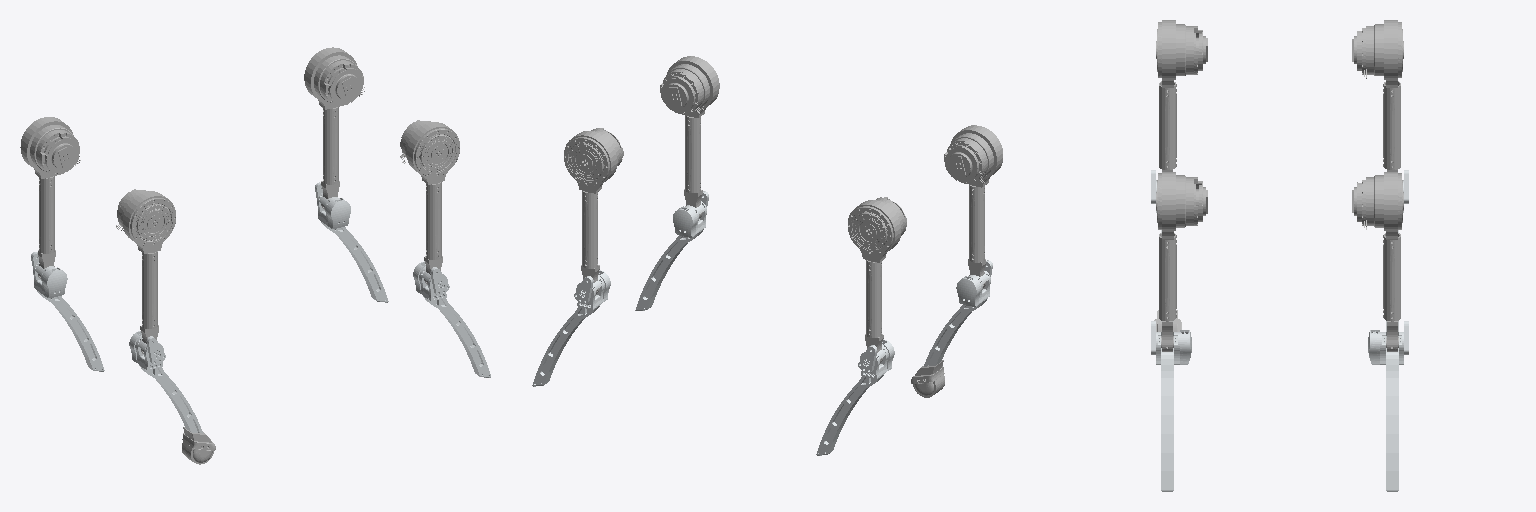
URDF robot description (PONGBOT_Q_V6_rviz):
<?xml version="1.0" encoding="utf-8"?>
<!-- This URDF was automatically created by SolidWorks to URDF Exporter! Originally created by [author] ([email redacted])
Commit Version: 1.5.1-0-g916b5db  Build Version: 1.5.7152.31018
For more information, please see http://wiki.ros.org/sw_urdf_exporter -->
<robot
    name="PONGBOT_Q_V6_rviz">
    <link
        name="BODY">
        <inertial>
            <origin
                xyz="-0.0221 0.00034 0.05293"
                rpy="0 0 0" />
            <mass
                value="24.701" />
            <inertia
                ixx="0.34089"
                ixy="-0.00272"
                ixz="-0.08697"
                iyy="1.8849"
                iyz="0.00032"
                izz="1.9898" />
        </inertial>
        <visual>
            <origin
                xyz="0 0 0"
                rpy="0 0 0" />
            <geometry>
                <mesh
                    filename="package://PONGBOT_Q_V6_rviz/meshes/BODY.STL" />
            </geometry>
            <material
                name="">
                <color
                    rgba="0.75294 0.75294 0.75294 1" />
            </material>
        </visual>
        <collision>
            <origin
                xyz="0 0 0"
                rpy="0 0 0" />
            <geometry>
                <mesh
                    filename="package://PONGBOT_Q_V6_rviz/meshes/BODY.STL" />
            </geometry>
        </collision>
    </link>
    <link
        name="RL_HIP">
        <inertial>
            <origin
                xyz="-0.00113 -0.00546 -0.00059"
                rpy="0 0 0" />
            <mass
                value="1.5346" />
            <inertia
                ixx="0.00131"
                ixy="0"
                ixz="1E-05"
                iyy="0.00176"
                iyz="1E-05"
                izz="0.00141" />
        </inertial>
        <visual>
            <origin
                xyz="0 0 0"
                rpy="0 0 0" />
            <geometry>
                <mesh
                    filename="package://PONGBOT_Q_V6_rviz/meshes/RL_HIP.STL" />
            </geometry>
            <material
                name="">
                <color
                    rgba="0.75294 0.75294 0.75294 1" />
            </material>
        </visual>
        <collision>
            <origin
                xyz="0 0 0"
                rpy="0 0 0" />
            <geometry>
                <mesh
                    filename="package://PONGBOT_Q_V6_rviz/meshes/RL_HIP.STL" />
            </geometry>
        </collision>
    </link>
    <joint
        name="1_RL_HR_JOINT"
        type="continuous">
        <origin
            xyz="-0.35 0.11502 0"
            rpy="0 0 0" />
        <parent
            link="BODY" />
        <child
            link="RL_HIP" />
        <axis
            xyz="1 0 0" />
    </joint>
    <link
        name="RL_THIGH">
        <inertial>
            <origin
                xyz="0.00018 -0.01146 -0.02836"
                rpy="0 0 0" />
            <mass
                value="3.32" />
            <inertia
                ixx="0.02493"
                ixy="-3E-05"
                ixz="2E-05"
                iyy="0.02533"
                iyz="-0.001"
                izz="0.00394" />
        </inertial>
        <visual>
            <origin
                xyz="0 0 0"
                rpy="0 0 0" />
            <geometry>
                <mesh
                    filename="package://PONGBOT_Q_V6_rviz/meshes/RL_THIGH.STL" />
            </geometry>
            <material
                name="">
                <color
                    rgba="0.75294 0.75294 0.75294 1" />
            </material>
        </visual>
        <collision>
            <origin
                xyz="0 0 0"
                rpy="0 0 0" />
            <geometry>
                <mesh
                    filename="package://PONGBOT_Q_V6_rviz/meshes/RL_THIGH.STL" />
            </geometry>
        </collision>
    </link>
    <joint
        name="RL_HP_JOINT"
        type="continuous">
        <origin
            xyz="0 0.1049 0"
            rpy="0 0 0" />
        <parent
            link="RL_HIP" />
        <child
            link="RL_THIGH" />
        <axis
            xyz="0 1 0" />
    </joint>
    <link
        name="RL_CALF">
        <inertial>
            <origin
                xyz="0.03375 0.00334 -0.0746"
                rpy="0 0 0" />
            <mass
                value="0.57335" />
            <inertia
                ixx="0.00434"
                ixy="-7E-05"
                ixz="-0.0021615"
                iyy="0.00538"
                iyz="0.00018"
                izz="0.00139" />
        </inertial>
        <visual>
            <origin
                xyz="0 0 0"
                rpy="0 0 0" />
            <geometry>
                <mesh
                    filename="package://PONGBOT_Q_V6_rviz/meshes/RL_CALF.STL" />
            </geometry>
            <material
                name="">
                <color
                    rgba="0.89804 0.91765 0.92941 1" />
            </material>
        </visual>
        <collision>
            <origin
                xyz="0 0 0"
                rpy="0 0 0" />
            <geometry>
                <mesh
                    filename="package://PONGBOT_Q_V6_rviz/meshes/RL_CALF.STL" />
            </geometry>
        </collision>
    </link>
    <joint
        name="RL_KN_JOINT"
        type="continuous">
        <origin
            xyz="0 0 -0.305"
            rpy="0 0 0" />
        <parent
            link="RL_THIGH" />
        <child
            link="RL_CALF" />
        <axis
            xyz="0 1 0" />
    </joint>
    <link
      name="RL_TIP">
      <inertial>
        <origin
          xyz="-0.00076 0 0.00289"
          rpy="0 0 0" />
        <mass
          value="0.1646" />
        <inertia
          ixx="9E-05"
          ixy="0"
          ixz="-1E-05"
          iyy="9E-05"
          iyz="0"
          izz="8E-05" />
      </inertial>
      <visual>
        <origin
          xyz="0 0 0"
          rpy="0 0 0" />
        <geometry>
          <mesh
            filename="package://PONGBOT_Q_V6_rviz/meshes/RL_TIP.STL" />
        </geometry>
        <material
          name="">
          <color
            rgba="0.75294 0.75294 0.75294 1" />
        </material>
      </visual>
      <collision>
        <origin
          xyz="0 0 0"
          rpy="0 0 0" />
        <geometry>
          <mesh
            filename="package://PONGBOT_Q_V6_rviz/meshes/RL_TIP.STL" />
        </geometry>
      </collision>
    </link>
    <joint
      name="RL_TIP_JOINT"
      type="fixed">
      <origin
        xyz="0.11836 0 -0.26273"
        rpy="0 0 0" />
      <parent
        link="RL_CALF" />
      <child
        link="RL_TIP" />
      <axis
        xyz="0 0 0" />
    </joint>
    <link
        name="RR_HIP">
        <inertial>
            <origin
                xyz="-0.00113 0.00546 0.00059"
                rpy="0 0 0" />
            <mass
                value="1.5346" />
            <inertia
                ixx="0.00131"
                ixy="0"
                ixz="-1E-05"
                iyy="0.00176"
                iyz="1E-05"
                izz="0.00141" />
        </inertial>
        <visual>
            <origin
                xyz="0 0 0"
                rpy="0 0 0" />
            <geometry>
                <mesh
                    filename="package://PONGBOT_Q_V6_rviz/meshes/RR_HIP.STL" />
            </geometry>
            <material
                name="">
                <color
                    rgba="0.75294 0.75294 0.75294 1" />
            </material>
        </visual>
        <collision>
            <origin
                xyz="0 0 0"
                rpy="0 0 0" />
            <geometry>
                <mesh
                    filename="package://PONGBOT_Q_V6_rviz/meshes/RR_HIP.STL" />
            </geometry>
        </collision>
    </link>
    <joint
        name="2_RR_HR_JOINT"
        type="continuous">
        <origin
            xyz="-0.35 -0.11502 0"
            rpy="0 0 0" />
        <parent
            link="BODY" />
        <child
            link="RR_HIP" />
        <axis
            xyz="1 0 0" />
    </joint>
    <link
        name="RR_THIGH">
        <inertial>
            <origin
                xyz="-0.00018 0.01146 -0.02836"
                rpy="0 0 0" />
            <mass
                value="3.32" />
            <inertia
                ixx="0.02493"
                ixy="-3E-05"
                ixz="-2E-05"
                iyy="0.028"
                iyz="0.001"
                izz="0.00394" />
        </inertial>
        <visual>
            <origin
                xyz="0 0 0"
                rpy="0 0 0" />
            <geometry>
                <mesh
                    filename="package://PONGBOT_Q_V6_rviz/meshes/RR_THIGH.STL" />
            </geometry>
            <material
                name="">
                <color
                    rgba="0.75294 0.75294 0.75294 1" />
            </material>
        </visual>
        <collision>
            <origin
                xyz="0 0 0"
                rpy="0 0 0" />
            <geometry>
                <mesh
                    filename="package://PONGBOT_Q_V6_rviz/meshes/RR_THIGH.STL" />
            </geometry>
        </collision>
    </link>
    <joint
        name="RR_HP_JOINT"
        type="continuous">
        <origin
            xyz="0 -0.1049 0"
            rpy="0 0 0" />
        <parent
            link="RR_HIP" />
        <child
            link="RR_THIGH" />
        <axis
            xyz="0 1 0" />
    </joint>
    <link
        name="RR_CALF">
        <inertial>
            <origin
                xyz="0.03376 -0.00334 -0.0746"
                rpy="0 0 0" />
            <mass
                value="0.57335" />
            <inertia
                ixx="0.00434"
                ixy="7E-05"
                ixz="-0.00216"
                iyy="0.00538"
                iyz="-0.00018"
                izz="0.00139" />
        </inertial>
        <visual>
            <origin
                xyz="0 0 0"
                rpy="0 0 0" />
            <geometry>
                <mesh
                    filename="package://PONGBOT_Q_V6_rviz/meshes/RR_CALF.STL" />
            </geometry>
            <material
                name="">
                <color
                    rgba="0.89804 0.91765 0.92941 1" />
            </material>
        </visual>
        <collision>
            <origin
                xyz="0 0 0"
                rpy="0 0 0" />
            <geometry>
                <mesh
                    filename="package://PONGBOT_Q_V6_rviz/meshes/RR_CALF.STL" />
            </geometry>
        </collision>
    </link>
    <joint
        name="RR_KN_JOINT"
        type="continuous">
        <origin
            xyz="0 0 -0.305"
            rpy="0 0 0" />
        <parent
            link="RR_THIGH" />
        <child
            link="RR_CALF" />
        <axis
            xyz="0 1 0" />
    </joint>
    <link
      name="RR_TIP">
      <inertial>
        <origin
          xyz="-0.00076 0 0.00289"
          rpy="0 0 0" />
        <mass
          value="0.1646" />
        <inertia
          ixx="9E-05"
          ixy="0"
          ixz="-1E-05"
          iyy="9E-05"
          iyz="0"
          izz="8E-05" />
      </inertial>
      <visual>
        <origin
          xyz="0 0 0"
          rpy="0 0 0" />
        <geometry>
          <mesh
            filename="package://PONGBOT_Q_V6_rviz/meshes/RR_TIP.STL" />
        </geometry>
        <material
          name="">
          <color
            rgba="0.75294 0.75294 0.75294 1" />
        </material>
      </visual>
      <collision>
        <origin
          xyz="0 0 0"
          rpy="0 0 0" />
        <geometry>
          <mesh
            filename="package://PONGBOT_Q_V6_rviz/meshes/RR_TIP.STL" />
        </geometry>
      </collision>
    </link>
    <joint
      name="RR_TIP_JOINT"
      type="fixed">
      <origin
        xyz="0.11836 0 -0.26273"
        rpy="0 0 0" />
      <parent
        link="RR_CALF" />
      <child
        link="RR_TIP" />
      <axis
        xyz="0 0 0" />
    </joint>
    <link
        name="FL_HIP">
        <inertial>
            <origin
                xyz="0.00113 -0.00546 0.00059"
                rpy="0 0 0" />
            <mass
                value="1.5346" />
            <inertia
                ixx="0.00131"
                ixy="0"
                ixz="1E-05"
                iyy="0.00176"
                iyz="-1E-05"
                izz="0.00141" />
        </inertial>
        <visual>
            <origin
                xyz="0 0 0"
                rpy="0 0 0" />
            <geometry>
                <mesh
                    filename="package://PONGBOT_Q_V6_rviz/meshes/FL_HIP.STL" />
            </geometry>
            <material
                name="">
                <color
                    rgba="0.75294 0.75294 0.75294 1" />
            </material>
        </visual>
        <collision>
            <origin
                xyz="0 0 0"
                rpy="0 0 0" />
            <geometry>
                <mesh
                    filename="package://PONGBOT_Q_V6_rviz/meshes/FL_HIP.STL" />
            </geometry>
        </collision>
    </link>
    <joint
        name="3_FL_HR_JOINT"
        type="continuous">
        <origin
            xyz="0.35 0.11502 0"
            rpy="0 0 0" />
        <parent
            link="BODY" />
        <child
            link="FL_HIP" />
        <axis
            xyz="1 0 0" />
    </joint>
    <link
        name="FL_THIGH">
        <inertial>
            <origin
                xyz="0.00018 -0.01146 -0.02836"
                rpy="0 0 0" />
            <mass
                value="3.32" />
            <inertia
                ixx="0.02493"
                ixy="-3E-05"
                ixz="2E-05"
                iyy="0.02533"
                iyz="-0.001"
                izz="0.00394" />
        </inertial>
        <visual>
            <origin
                xyz="0 0 0"
                rpy="0 0 0" />
            <geometry>
                <mesh
                    filename="package://PONGBOT_Q_V6_rviz/meshes/FL_THIGH.STL" />
            </geometry>
            <material
                name="">
                <color
                    rgba="0.75294 0.75294 0.75294 1" />
            </material>
        </visual>
        <collision>
            <origin
                xyz="0 0 0"
                rpy="0 0 0" />
            <geometry>
                <mesh
                    filename="package://PONGBOT_Q_V6_rviz/meshes/FL_THIGH.STL" />
            </geometry>
        </collision>
    </link>
    <joint
        name="FL_HP_JOINT"
        type="continuous">
        <origin
            xyz="0 0.1049 0"
            rpy="0 0 0" />
        <parent
            link="FL_HIP" />
        <child
            link="FL_THIGH" />
        <axis
            xyz="0 1 0" />
    </joint>
    <link
        name="FL_CALF">
        <inertial>
            <origin
                xyz="0.03375 0.00334 -0.0746"
                rpy="0 0 0" />
            <mass
                value="0.57335" />
            <inertia
                ixx="0.00434"
                ixy="-7E-05"
                ixz="-0.00216"
                iyy="0.00538"
                iyz="0.00018"
                izz="0.00139" />
        </inertial>
        <visual>
            <origin
                xyz="0 0 0"
                rpy="0 0 0" />
            <geometry>
                <mesh
                    filename="package://PONGBOT_Q_V6_rviz/meshes/FL_CALF.STL" />
            </geometry>
            <material
                name="">
                <color
                    rgba="0.89804 0.91765 0.92941 1" />
            </material>
        </visual>
        <collision>
            <origin
                xyz="0 0 0"
                rpy="0 0 0" />
            <geometry>
                <mesh
                    filename="package://PONGBOT_Q_V6_rviz/meshes/FL_CALF.STL" />
            </geometry>
        </collision>
    </link>
    <joint
        name="FL_KN_JOINT"
        type="continuous">
        <origin
            xyz="0 0 -0.305"
            rpy="0 0 0" />
        <parent
            link="FL_THIGH" />
        <child
            link="FL_CALF" />
        <axis
            xyz="0 1 0" />
    </joint>
    <link
      name="FL_TIP">
      <inertial>
        <origin
          xyz="-0.00076 0 0.00289"
          rpy="0 0 0" />
        <mass
          value="0.1646" />
        <inertia
          ixx="9E-05"
          ixy="0"
          ixz="-1E-05"
          iyy="9E-05"
          iyz="0"
          izz="8E-05" />
      </inertial>
      <visual>
        <origin
          xyz="0 0 0"
          rpy="0 0 0" />
        <geometry>
          <mesh
            filename="package://PONGBOT_Q_V6_rviz/meshes/FL_TIP.STL" />
        </geometry>
        <material
          name="">
          <color
            rgba="0.75294 0.75294 0.75294 1" />
        </material>
      </visual>
      <collision>
        <origin
          xyz="0 0 0"
          rpy="0 0 0" />
        <geometry>
          <mesh
            filename="package://PONGBOT_Q_V6_rviz/meshes/FL_TIP.STL" />
        </geometry>
      </collision>
    </link>
    <joint
      name="FL_TIP_JOINT"
      type="fixed">
      <origin
        xyz="0.11836 0 -0.26273"
        rpy="0 0 0" />
      <parent
        link="FL_CALF" />
      <child
        link="FL_TIP" />
      <axis
        xyz="0 0 0" />
    </joint>
    <link
        name="FR_HIP">
        <inertial>
            <origin
                xyz="0.00113 0.00546 -0.00059"
                rpy="0 0 0" />
            <mass
                value="1.5346" />
            <inertia
                ixx="0.00131"
                ixy="0"
                ixz="-1E-05"
                iyy="0.00176"
                iyz="-1E-05"
                izz="0.00141" />
        </inertial>
        <visual>
            <origin
                xyz="0 0 0"
                rpy="0 0 0" />
            <geometry>
                <mesh
                    filename="package://PONGBOT_Q_V6_rviz/meshes/FR_HIP.STL" />
            </geometry>
            <material
                name="">
                <color
                    rgba="0.75294 0.75294 0.75294 1" />
            </material>
        </visual>
        <collision>
            <origin
                xyz="0 0 0"
                rpy="0 0 0" />
            <geometry>
                <mesh
                    filename="package://PONGBOT_Q_V6_rviz/meshes/FR_HIP.STL" />
            </geometry>
        </collision>
    </link>
    <joint
        name="4_FR_HR_JOINT"
        type="continuous">
        <origin
            xyz="0.35 -0.11502 0"
            rpy="0 0 0" />
        <parent
            link="BODY" />
        <child
            link="FR_HIP" />
        <axis
            xyz="1 0 0" />
    </joint>
    <link
        name="FR_THIGH">
        <inertial>
            <origin
                xyz="-0.00018 0.01146 -0.02836"
                rpy="0 0 0" />
            <mass
                value="3.32" />
            <inertia
                ixx="0.02493"
                ixy="-3E-05"
                ixz="-2E-05"
                iyy="0.02533"
                iyz="0.001"
                izz="0.00394" />
        </inertial>
        <visual>
            <origin
                xyz="0 0 0"
                rpy="0 0 0" />
            <geometry>
                <mesh
                    filename="package://PONGBOT_Q_V6_rviz/meshes/FR_THIGH.STL" />
            </geometry>
            <material
                name="">
                <color
                    rgba="0.75294 0.75294 0.75294 1" />
            </material>
        </visual>
        <collision>
            <origin
                xyz="0 0 0"
                rpy="0 0 0" />
            <geometry>
                <mesh
                    filename="package://PONGBOT_Q_V6_rviz/meshes/FR_THIGH.STL" />
            </geometry>
        </collision>
    </link>
    <joint
        name="FR_HP_JOINT"
        type="continuous">
        <origin
            xyz="0 -0.1049 0"
            rpy="0 0 0" />
        <parent
            link="FR_HIP" />
        <child
            link="FR_THIGH" />
        <axis
            xyz="0 1 0" />
    </joint>
    <link
        name="FR_CALF">
        <inertial>
            <origin
                xyz="0.03376 -0.00334 -0.0746"
                rpy="0 0 0" />
            <mass
                value="0.57335" />
            <inertia
                ixx="0.00434"
                ixy="7E-05"
                ixz="-0.00216"
                iyy="0.00538"
                iyz="-0.00018"
                izz="0.00139" />
        </inertial>
        <visual>
            <origin
                xyz="0 0 0"
                rpy="0 0 0" />
            <geometry>
                <mesh
                    filename="package://PONGBOT_Q_V6_rviz/meshes/FR_CALF.STL" />
            </geometry>
            <material
                name="">
                <color
                    rgba="0.89804 0.91765 0.92941 1" />
            </material>
        </visual>
        <collision>
            <origin
                xyz="0 0 0"
                rpy="0 0 0" />
            <geometry>
                <mesh
                    filename="package://PONGBOT_Q_V6_rviz/meshes/FR_CALF.STL" />
            </geometry>
        </collision>
    </link>
    <joint
        name="FR_KN_JOINT"
        type="continuous">
        <origin
            xyz="0 0 -0.305"
            rpy="0 0 0" />
        <parent
            link="FR_THIGH" />
        <child
            link="FR_CALF" />
        <axis
            xyz="0 1 0" />
    </joint>
    <link
      name="FR_TIP">
      <inertial>
        <origin
          xyz="-0.00076 0 0.00289"
          rpy="0 0 0" />
        <mass
          value="0.1646" />
        <inertia
          ixx="9E-05"
          ixy="0"
          ixz="-1E-05"
          iyy="9E-05"
          iyz="0"
          izz="8E-05" />
      </inertial>
      <visual>
        <origin
          xyz="0 0 0"
          rpy="0 0 0" />
        <geometry>
          <mesh
            filename="package://PONGBOT_Q_V6_rviz/meshes/FR_TIP.STL" />
        </geometry>
        <material
          name="">
          <color
            rgba="0.75294 0.75294 0.75294 1" />
        </material>
      </visual>
      <collision>
        <origin
          xyz="0 0 0"
          rpy="0 0 0" />
        <geometry>
          <mesh
            filename="package://PONGBOT_Q_V6_rviz/meshes/FR_TIP.STL" />
        </geometry>
      </collision>
    </link>
    <joint
      name="FR_TIP_JOINT"
      type="fixed">
      <origin
        xyz="0.11836 0 -0.26273"
        rpy="0 0 0" />
      <parent
        link="FR_CALF" />
      <child
        link="FR_TIP" />
      <axis
        xyz="0 0 0" />
    </joint>
</robot>

--- Facts derived from the render (not from the file) ---
The picture shows the robot from 3 angles, left to right: view 1: azimuth 30°, elevation 25°; view 2: azimuth 150°, elevation 25°; view 3: azimuth 270°, elevation 25°; orthographic projection.
Robot: PONGBOT_Q_V6_rviz — 17 links, 16 joints (12 continuous, 4 fixed); root link BODY; default pose: every joint at zero.
Visible links, largest first — view 1: FL_THIGH, FR_THIGH, RR_THIGH, RL_THIGH, FR_CALF, RL_CALF, FL_CALF, RR_CALF, RR_TIP; view 2: FR_THIGH, RR_THIGH, FL_THIGH, RL_THIGH, RL_CALF, FL_CALF, FR_CALF, RR_CALF, RR_TIP; view 3: FR_THIGH, FL_THIGH, RR_THIGH, RL_THIGH, FL_CALF, FR_CALF.
Boxes of the visible links, x1,y1,x2,y2 form: FL_THIGH: (304, 47, 364, 209); FR_THIGH: (400, 120, 459, 284); RR_THIGH: (116, 189, 175, 353); RL_THIGH: (20, 117, 80, 278); FR_CALF: (413, 261, 490, 377); RL_CALF: (31, 252, 104, 371); FL_CALF: (315, 182, 388, 302); RR_CALF: (129, 331, 202, 433); RR_TIP: (182, 427, 215, 464); FR_THIGH: (660, 56, 719, 217); RR_THIGH: (944, 125, 1002, 287); FL_THIGH: (564, 128, 623, 293); RL_THIGH: (848, 197, 906, 362); RL_CALF: (816, 339, 894, 455); FL_CALF: (532, 270, 610, 386); FR_CALF: (635, 191, 708, 310); RR_CALF: (924, 260, 992, 366); RR_TIP: (911, 360, 944, 397); FR_THIGH: (1156, 172, 1207, 351); FL_THIGH: (1352, 172, 1403, 351); RR_THIGH: (1156, 20, 1207, 171); RL_THIGH: (1352, 20, 1403, 171); FL_CALF: (1368, 321, 1408, 491); FR_CALF: (1151, 321, 1191, 491).
Size in the robot's own frame: 0.894 by 0.5038 by 0.6556 metres.
9 mesh visuals loaded from 17 distinct referenced files (9 binary STL); not drawn: 8 (reference not matched to a file when rendering).